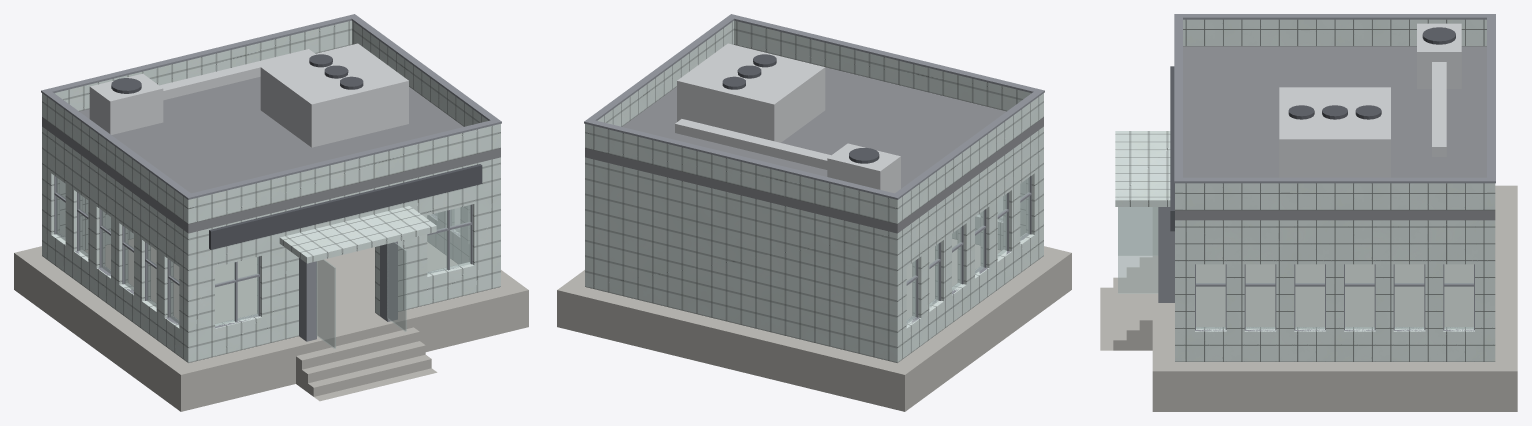
File: spaces-ext-clinic.glb
3 renders of one model, left to right at view 1: azimuth 30°, elevation 25°; view 2: azimuth 150°, elevation 25°; view 3: azimuth 270°, elevation 25°, orthographic. The views are drawn at different scales.
Parts seen in each view (by area): view 1: clinic exterior; view 2: clinic exterior; view 3: clinic exterior.
Boxes of the visible parts, bbox=[...] form: clinic exterior: bbox=[14, 14, 528, 411]; clinic exterior: bbox=[557, 14, 1071, 411]; clinic exterior: bbox=[1100, 14, 1517, 411].
Bounding box in the file's own units: 11.8 × 7.2 × 11.2.
Materials: 7 (1 with a texture image).
